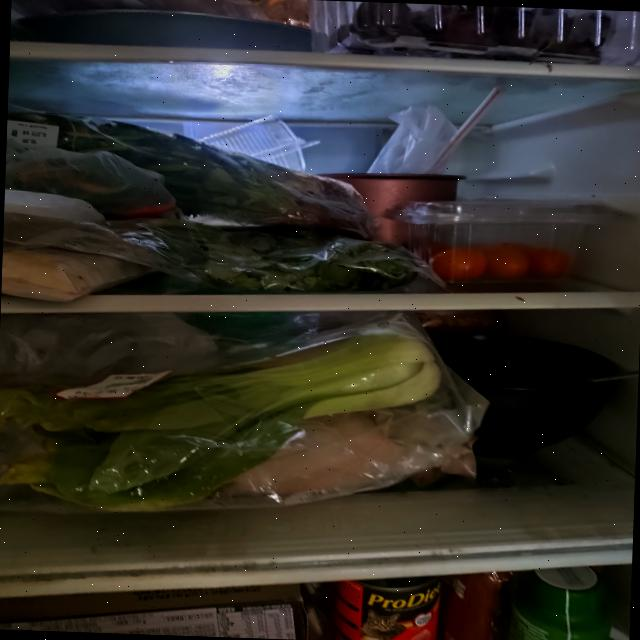leafy_greens: (3, 108, 381, 238), (129, 225, 419, 298)
pakchoy: (0, 314, 442, 523)
